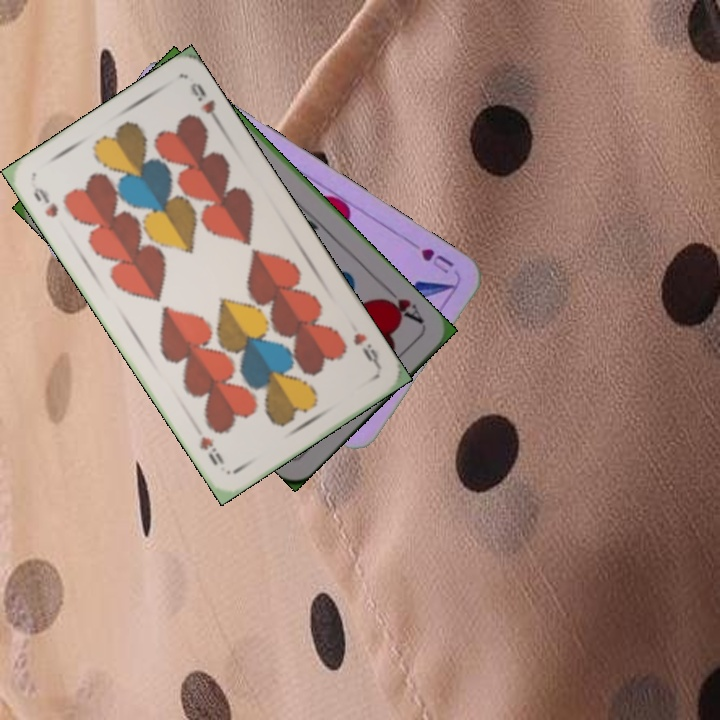H9: (349, 329, 383, 371), (29, 183, 61, 220)
HA: (377, 281, 426, 327)
HU: (417, 244, 456, 277)
